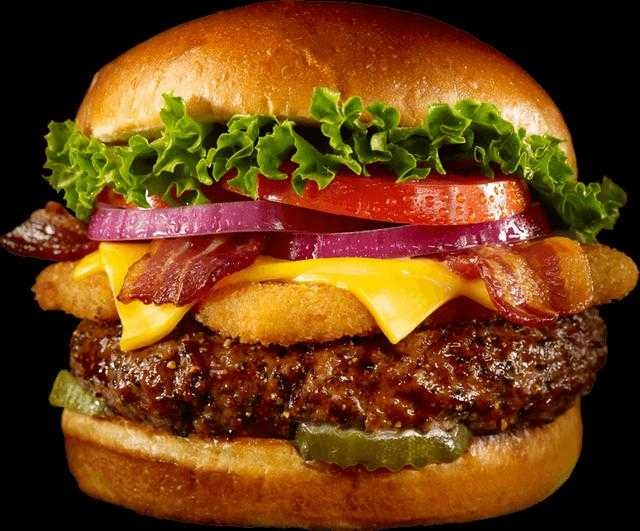hamburger: (51, 12, 625, 514)
